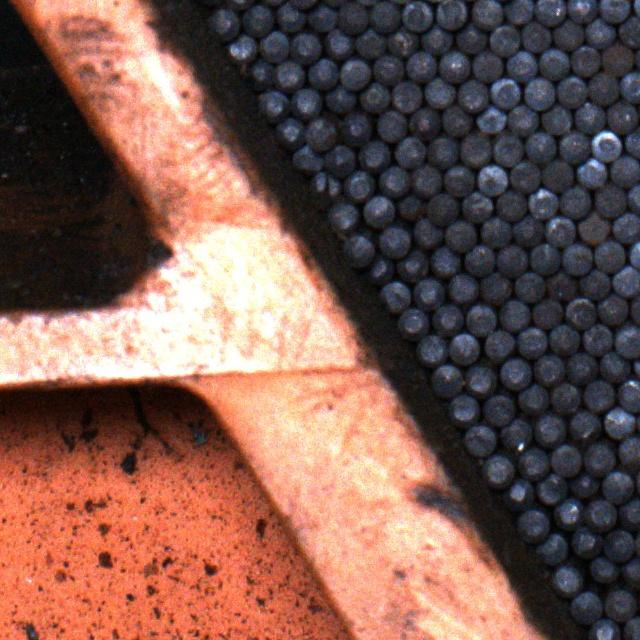tool: (604, 586, 639, 622), (480, 453, 515, 489), (427, 364, 463, 399), (580, 441, 616, 475), (458, 132, 492, 168), (446, 392, 480, 427), (575, 210, 610, 244), (407, 162, 442, 196), (491, 132, 525, 167), (514, 448, 551, 480), (515, 508, 549, 542), (462, 243, 496, 277), (288, 30, 322, 64), (500, 477, 535, 510), (511, 212, 544, 247), (460, 425, 496, 457), (580, 380, 616, 412), (252, 90, 288, 122), (321, 83, 357, 115), (531, 533, 568, 564), (464, 363, 495, 400), (549, 565, 583, 598), (377, 280, 411, 313), (577, 267, 611, 300), (394, 248, 428, 281), (376, 165, 409, 199), (339, 112, 372, 146), (206, 8, 240, 41), (443, 220, 478, 252), (443, 163, 475, 198), (339, 56, 371, 91), (569, 591, 602, 624), (596, 294, 629, 327), (445, 273, 478, 306), (582, 500, 616, 532), (603, 407, 637, 439), (481, 394, 515, 426), (498, 357, 530, 391), (478, 272, 512, 304), (428, 246, 462, 278), (494, 244, 528, 276), (592, 240, 626, 272), (340, 235, 374, 267), (474, 164, 508, 196), (322, 145, 356, 177), (426, 134, 458, 168), (506, 104, 540, 136), (606, 100, 638, 134), (389, 80, 423, 112), (437, 51, 471, 83), (601, 42, 633, 76), (323, 26, 355, 60), (584, 17, 618, 49), (376, 228, 411, 259), (570, 527, 603, 559), (568, 408, 600, 441), (534, 413, 566, 446), (565, 352, 598, 384), (547, 324, 580, 356), (395, 308, 428, 340), (464, 304, 497, 336), (529, 298, 562, 330), (544, 270, 577, 302), (529, 243, 561, 276), (425, 193, 458, 225), (594, 184, 626, 217), (392, 136, 425, 168), (305, 118, 338, 150), (523, 77, 555, 110), (454, 21, 487, 53), (487, 24, 520, 56), (553, 18, 585, 51), (338, 2, 371, 34), (369, 0, 402, 32), (602, 529, 633, 563), (532, 355, 566, 386), (461, 190, 492, 224), (539, 160, 573, 191), (356, 140, 390, 171), (524, 132, 558, 163), (538, 103, 572, 134), (488, 77, 522, 108), (244, 57, 275, 91), (222, 32, 256, 63), (272, 1, 306, 32), (304, 0, 338, 31), (429, 306, 464, 336), (406, 109, 441, 139), (550, 444, 582, 476), (564, 297, 596, 329), (514, 271, 546, 303), (326, 200, 358, 232), (559, 186, 591, 218), (508, 161, 540, 193), (456, 78, 488, 110), (527, 187, 558, 220), (574, 158, 607, 189), (609, 154, 640, 187), (505, 50, 538, 81), (354, 28, 387, 59), (386, 26, 419, 57), (600, 472, 634, 502), (566, 468, 600, 498), (496, 300, 530, 330), (360, 254, 394, 284), (535, 472, 567, 503), (599, 351, 630, 383), (414, 336, 445, 368), (447, 334, 479, 365), (515, 327, 547, 358), (413, 278, 445, 309), (561, 243, 593, 274), (544, 216, 576, 247), (362, 196, 394, 227), (274, 117, 306, 148), (573, 102, 605, 133), (288, 88, 320, 119), (587, 72, 618, 104), (307, 58, 339, 89), (538, 48, 569, 80), (570, 46, 602, 77), (400, 0, 432, 31), (582, 322, 612, 355), (479, 217, 512, 247), (309, 172, 342, 202), (589, 130, 622, 160), (473, 104, 506, 134), (555, 76, 588, 106), (258, 29, 288, 62), (520, 22, 553, 52), (551, 499, 582, 530), (485, 330, 516, 361), (343, 172, 374, 203), (559, 132, 590, 163), (500, 420, 532, 450), (548, 382, 580, 412), (410, 219, 442, 249), (610, 212, 640, 244), (274, 60, 304, 92), (472, 52, 504, 82), (419, 24, 451, 54), (494, 191, 527, 220), (424, 78, 457, 107), (372, 55, 405, 84), (614, 323, 640, 359), (376, 111, 406, 142), (405, 52, 436, 82), (516, 385, 548, 414), (395, 192, 424, 224), (290, 145, 322, 174), (434, 0, 466, 29), (588, 555, 618, 585), (441, 106, 472, 135), (358, 82, 389, 111), (471, 0, 502, 29), (240, 6, 272, 34), (534, 0, 568, 25), (613, 266, 640, 296), (586, 618, 622, 640), (501, 0, 534, 24), (617, 14, 640, 48), (598, 0, 631, 23), (618, 498, 640, 532), (616, 380, 640, 410), (617, 438, 640, 468), (568, 0, 598, 23), (618, 72, 640, 102), (621, 554, 640, 586), (624, 126, 640, 158)
